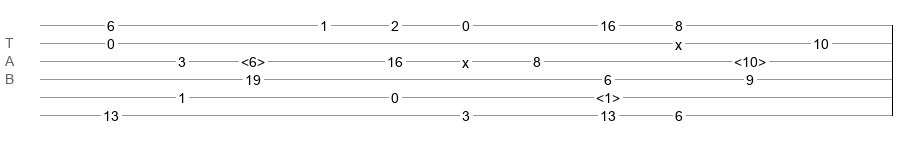0: (107, 36, 115, 46), (391, 90, 399, 100), (462, 18, 470, 28)
1: (178, 90, 186, 100), (320, 18, 328, 28)
10: (813, 36, 829, 46)
13: (103, 108, 119, 118), (600, 108, 616, 118)
16: (387, 54, 403, 64), (600, 18, 616, 28)
19: (245, 72, 261, 82)
2: (391, 18, 399, 28)
3: (178, 54, 186, 64), (462, 108, 470, 118)
6: (107, 18, 115, 28), (604, 72, 612, 82), (675, 108, 683, 118)
8: (533, 54, 541, 64), (675, 18, 683, 28)
9: (746, 72, 754, 82)
harmonic: (734, 54, 766, 64), (241, 54, 265, 64), (596, 90, 620, 100)
x: (462, 55, 469, 63), (675, 37, 682, 45)
